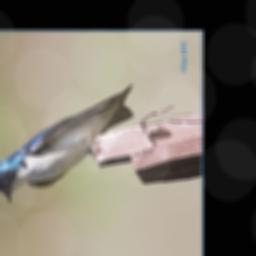Swallow: (0, 82, 137, 204)
